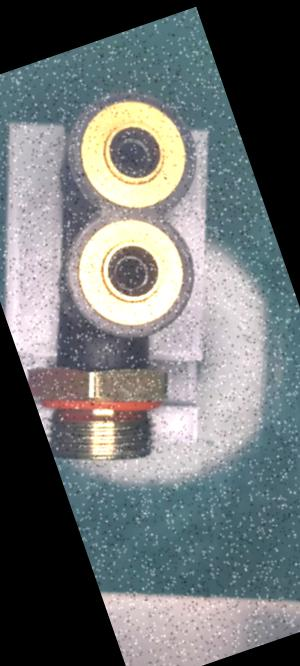craze: (99, 353, 115, 371)
